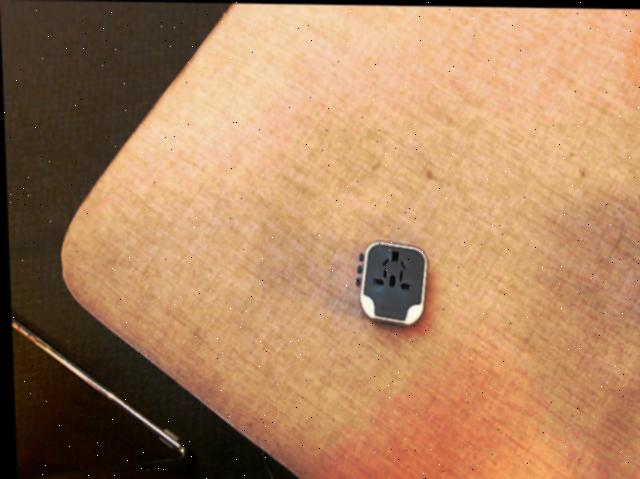adapter: (352, 239, 428, 326)
